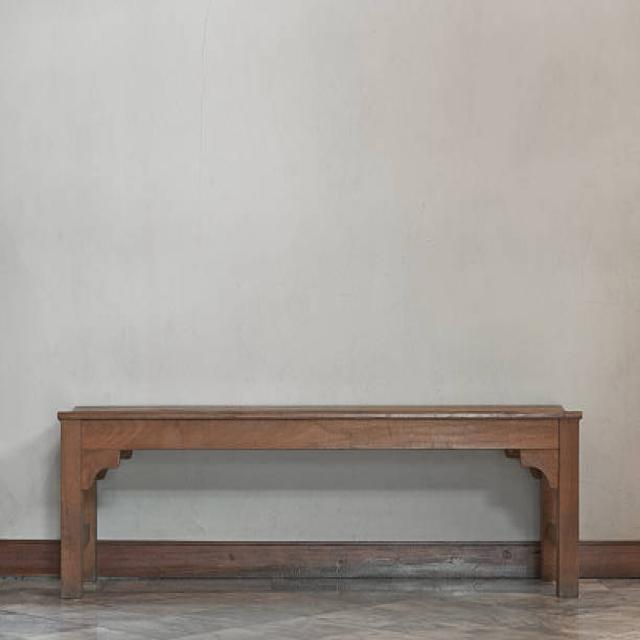table: (56, 402, 582, 600)
